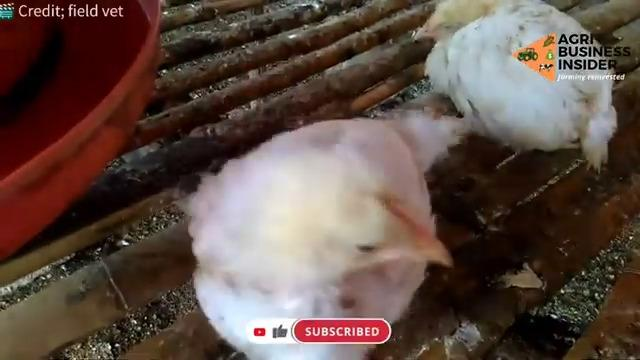Normal: (236, 139, 450, 307)
